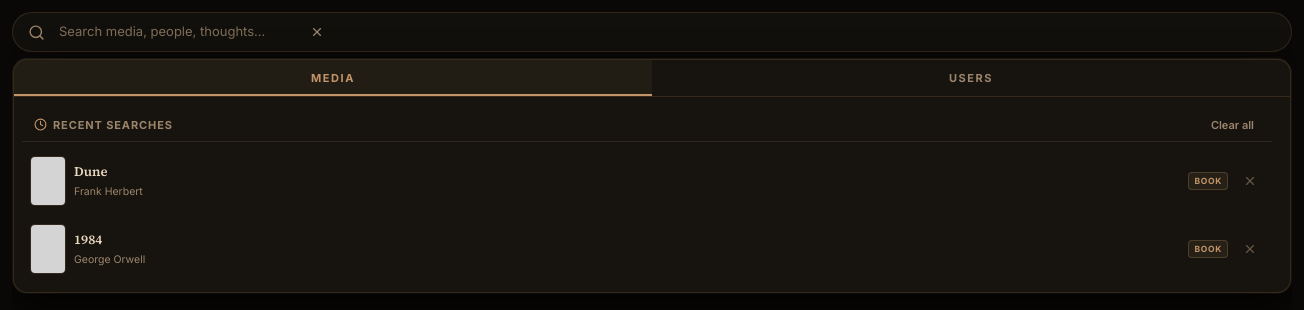
Test: recent search functionality › removes an individual item when X is clicked
Expected: the text "Dune" is shown, [74,162,108,182]
Expected: the text "1984" is shown, [74,230,102,250]
Click the button named "Remove Dune from recent searches" at (1250, 181), box [1236,167,1264,195]
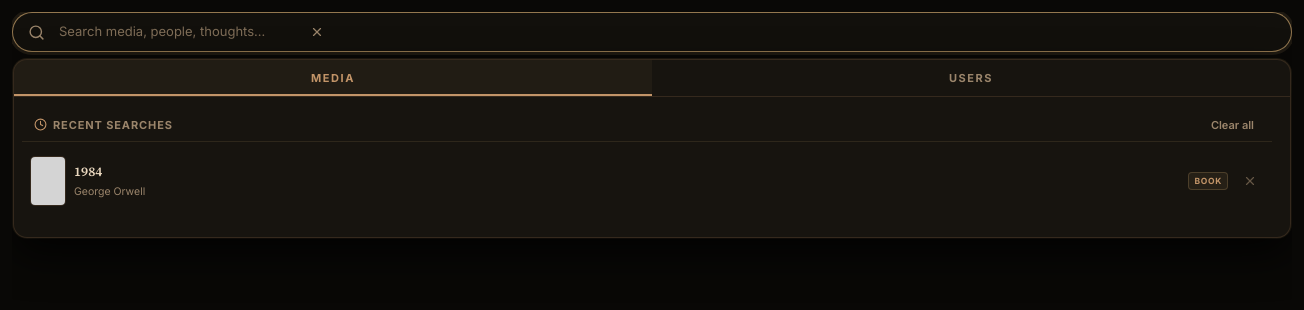
Expected: the text "1984" is shown, [74,162,102,182]
Result: the button "Dune" is gone
